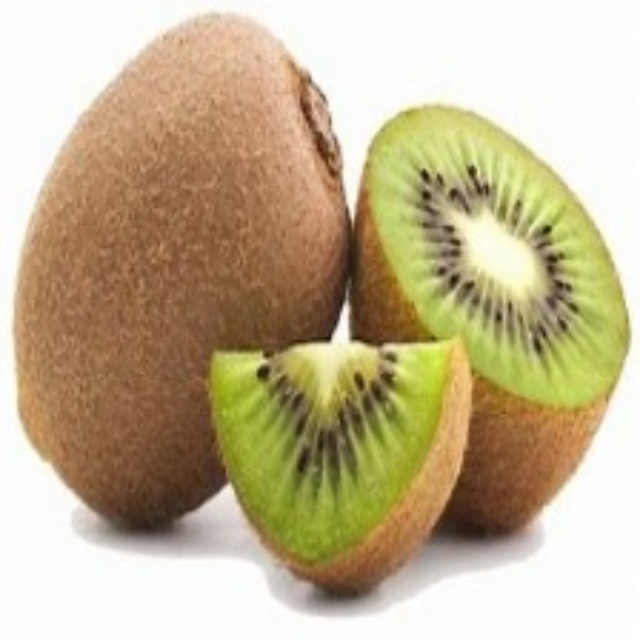kiwi: (28, 19, 355, 544), (347, 96, 626, 529), (197, 338, 477, 596)
